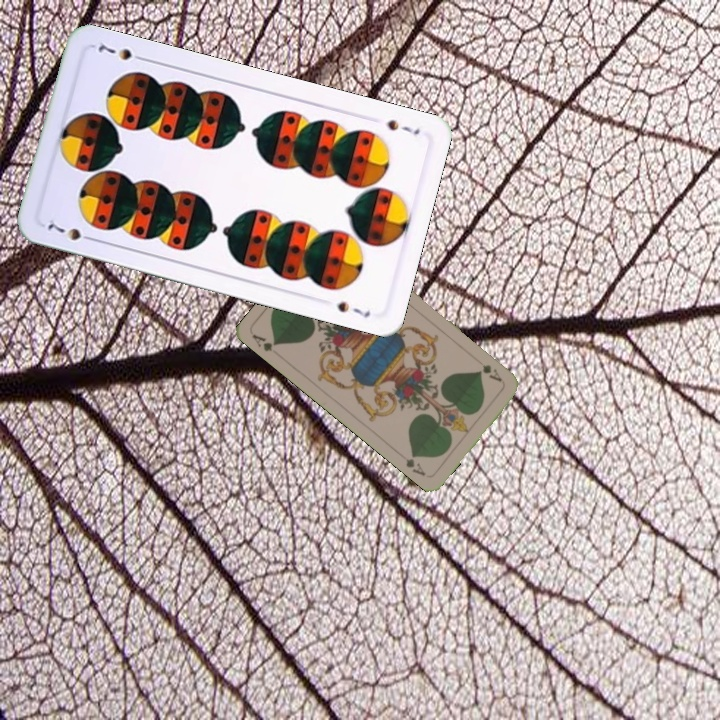GA: (473, 355, 505, 385), (248, 330, 280, 354)
S7: (44, 219, 98, 244), (383, 115, 423, 138)
